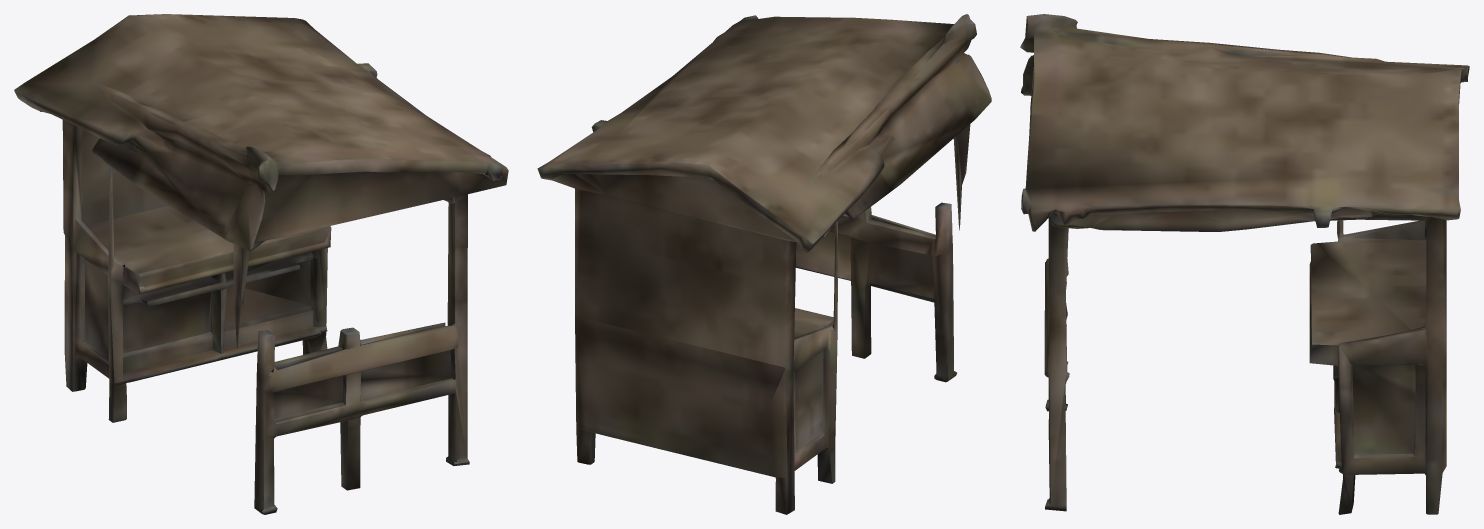
The model's file is simple-wood-market-stall-v001.glb.
3 views of the same model, side by side, from view 1: azimuth 30°, elevation 25°; view 2: azimuth 150°, elevation 25°; view 3: azimuth 270°, elevation 25° (orthographic). The views are drawn at different scales.
Parts seen in each view (by area): view 1: simple-wood-market-stall; view 2: simple-wood-market-stall; view 3: simple-wood-market-stall.
Boxes of the visible parts, x1=… form: simple-wood-market-stall: x1=14, y1=14, x2=508, y2=514; simple-wood-market-stall: x1=537, y1=14, x2=991, y2=514; simple-wood-market-stall: x1=1020, y1=14, x2=1469, y2=514.
Bounding box in the file's own units: 2.27 × 2.76 × 2.85.
1 material, 1 textured.
